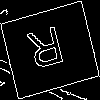R: (25, 25, 69, 80)
